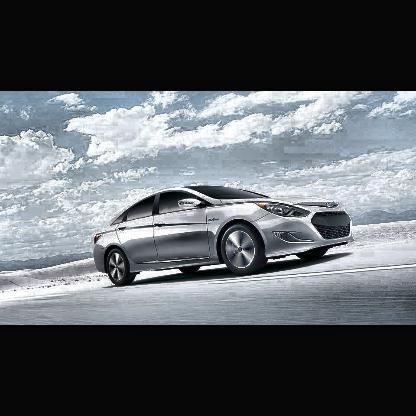Hyundai Sonata Hybrid Sedan 2012: (94, 185, 354, 285)
